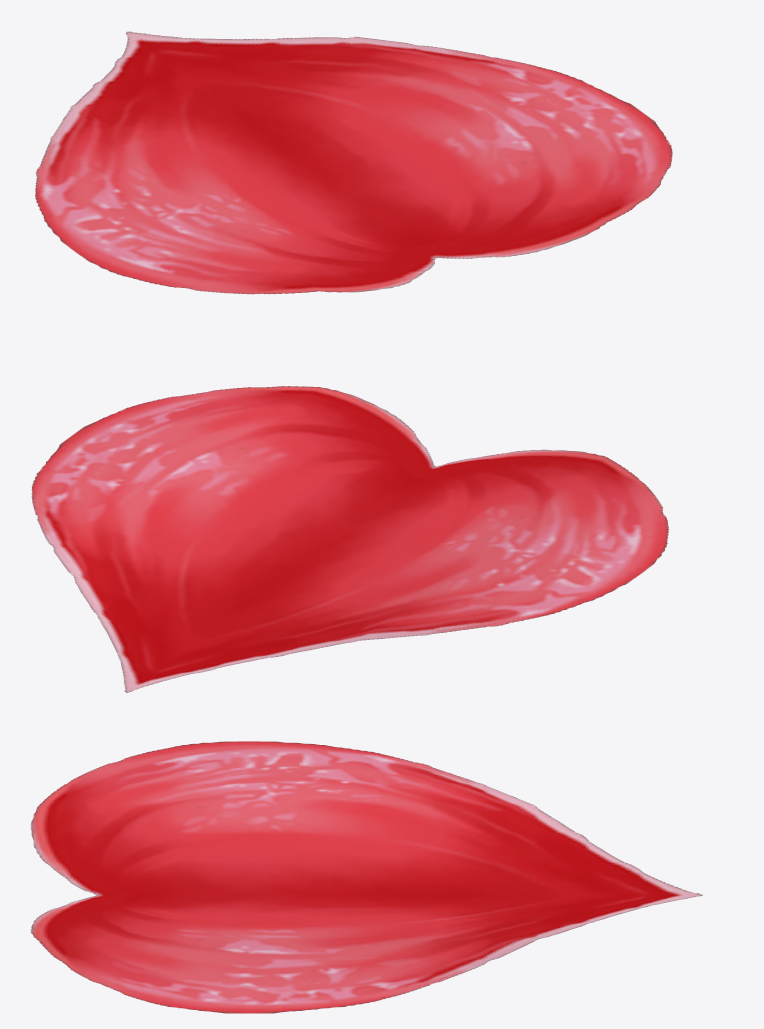
The model's file is SM_FleurSpline_06.fbx.
3 renders of one model, top to bottom at view 1: azimuth 30°, elevation 25°; view 2: azimuth 150°, elevation 25°; view 3: azimuth 270°, elevation 25°, orthographic.
Parts seen in each view (by area): view 1: SM_FleurSpline_06; view 2: SM_FleurSpline_06; view 3: SM_FleurSpline_06.
Part boxes in pixels (<box>): SM_FleurSpline_06: <box>35,31,672,294</box>; SM_FleurSpline_06: <box>31,386,669,692</box>; SM_FleurSpline_06: <box>30,741,702,1013</box>.
Size of the model in its own units: 11.2 by 0.4287 by 12.67.
Materials: 1 (1 with a texture image).
